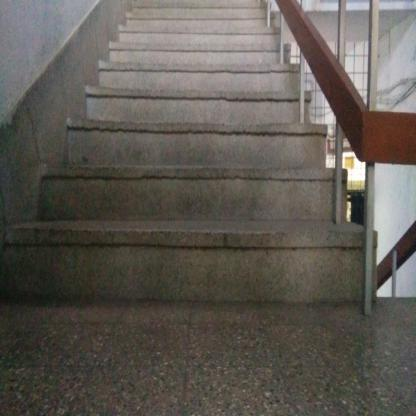stairs: (103, 99, 303, 329)
